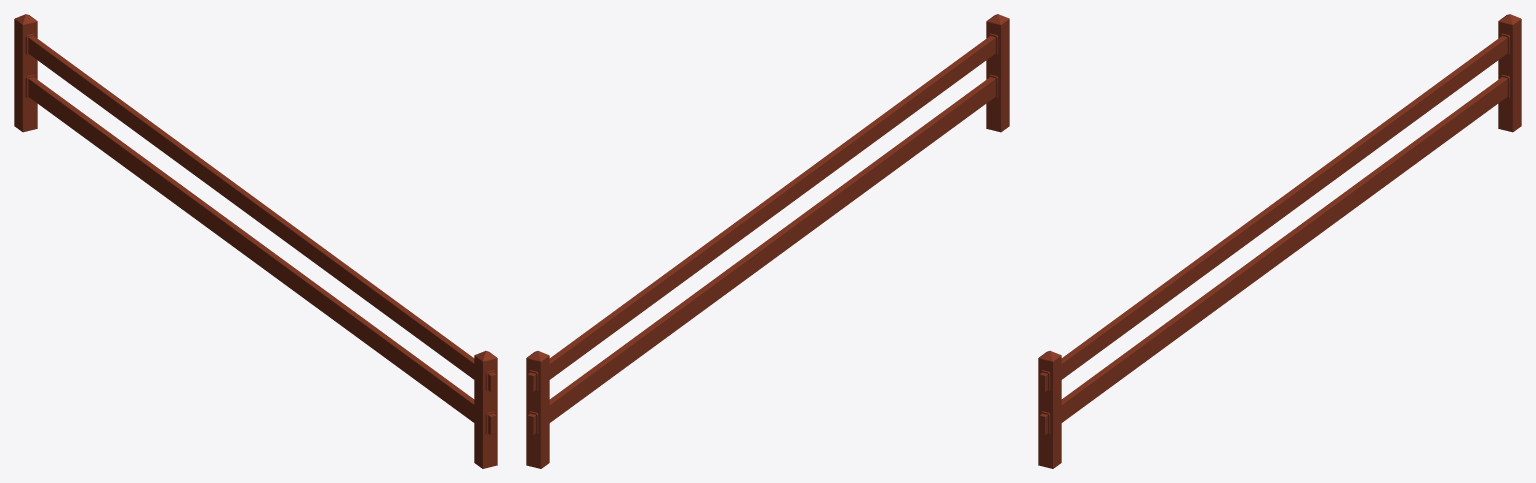
Rendered from Fence16(1).fbx.
3 renders of one model, left to right at view 1: azimuth 30°, elevation 25°; view 2: azimuth 150°, elevation 25°; view 3: azimuth 330°, elevation 25°, orthographic.
Visible parts, largest first — view 1: Fence16; view 2: Fence16; view 3: Fence16.
Boxes of the visible parts, <box> form: Fence16: <box>14,14,497,468</box>; Fence16: <box>526,14,1009,468</box>; Fence16: <box>1038,14,1521,468</box>.
Bounding box in the file's own units: 30 × 214 × 1626.
